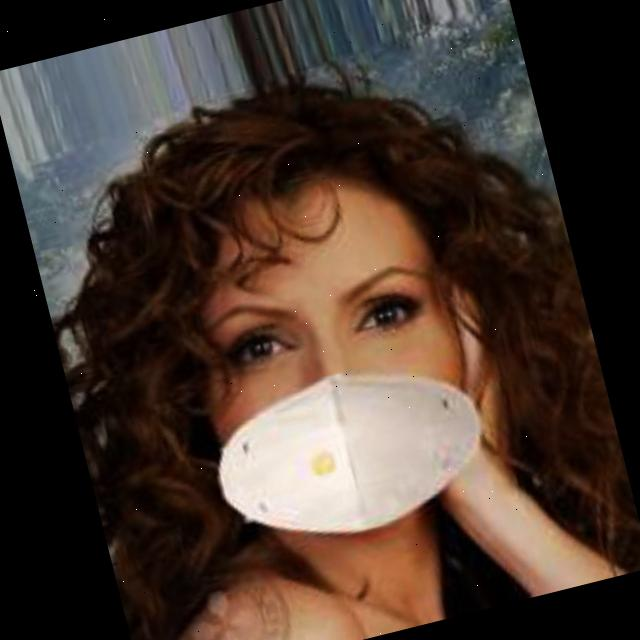suspicion: (110, 94, 516, 582)
